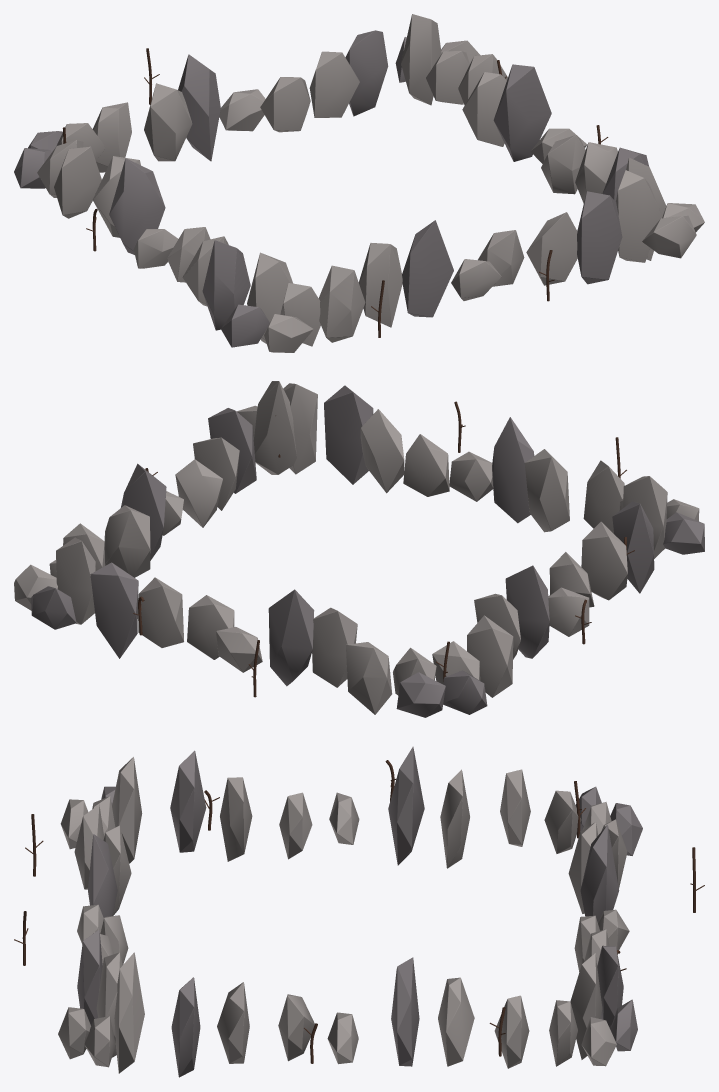
File: mountain_ring.glb
3 renders of one model, top to bottom at view 1: azimuth 30°, elevation 25°; view 2: azimuth 150°, elevation 25°; view 3: azimuth 270°, elevation 25°, orthographic. The views are drawn at different scales.
Visible parts, largest first — view 1: Cliff_2_4, Cliff_0_4, Cliff_0_8, Cliff_3_4, Cliff_0_9, Cliff_1_4, Cliff_3_8, Cliff_1_3, Cliff_0_3, Cliff_0_2, Cliff_0_7, Cliff_1_9 (+29 smaller); view 2: Cliff_1_4, Cliff_1_8, Cliff_0_8, Cliff_2_9, Cliff_0_4, Cliff_0_3, Cliff_3_4, Cliff_2_3, Cliff_3_7, Cliff_1_3, Cliff_3_2, Cliff_1_2 (+27 smaller); view 3: Cliff_3_4, Cliff_2_9, Cliff_3_8, Cliff_1_4, Cliff_2_4, Cliff_2_3, Cliff_2_8, Cliff_3_7, Cliff_3_3, Cliff_3_9, Cliff_2_7, Cliff_1_9 (+27 smaller).
Part boxes in pixels (x1,y1,x2,y2): Cliff_2_4: (493,64,551,161); Cliff_0_4: (402,220,453,317); Cliff_0_8: (577,191,622,284); Cliff_3_4: (109,158,165,254); Cliff_0_9: (616,170,661,262); Cliff_1_4: (178,54,220,161); Cliff_3_8: (202,240,250,330); Cliff_1_3: (144,83,192,161); Cliff_0_3: (358,243,402,327); Cliff_0_2: (318,265,365,342); Cliff_0_7: (526,212,577,285); Cliff_1_9: (401,14,441,105); Cliff_1_4: (268,589,314,686); Cliff_1_8: (90,562,138,658); Cliff_0_8: (324,385,373,484); Cliff_2_9: (253,381,296,474); Cliff_0_4: (492,417,534,523); Cliff_0_3: (524,449,569,532); Cliff_3_4: (505,565,549,658); Cliff_2_3: (104,505,150,577); Cliff_3_7: (581,521,627,600); Cliff_1_3: (312,607,357,687); Cliff_3_2: (467,615,513,697); Cliff_1_2: (346,642,392,714); Cliff_3_4: (388,746,424,865); Cliff_2_9: (114,952,144,1073); Cliff_3_8: (170,750,206,852); Cliff_1_4: (580,824,619,922); Cliff_2_4: (391,957,419,1066); Cliff_2_3: (438,977,474,1066); Cliff_2_8: (171,977,200,1077); Cliff_3_7: (220,777,252,861); Cliff_3_3: (440,769,469,868); Cliff_3_9: (112,757,142,863); Cliff_2_7: (217,982,249,1063); Cliff_1_9: (570,953,602,1059).
Bounding box in the file's own units: 72.11 × 15.19 × 79.59.
